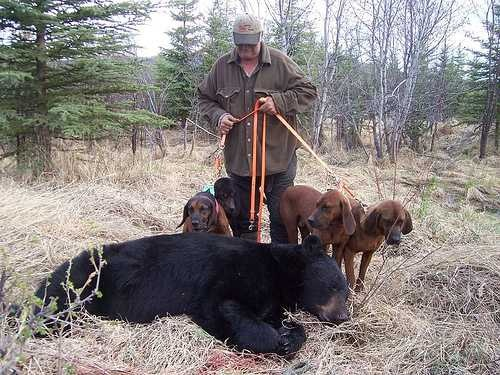bear: (233, 235, 361, 363)
